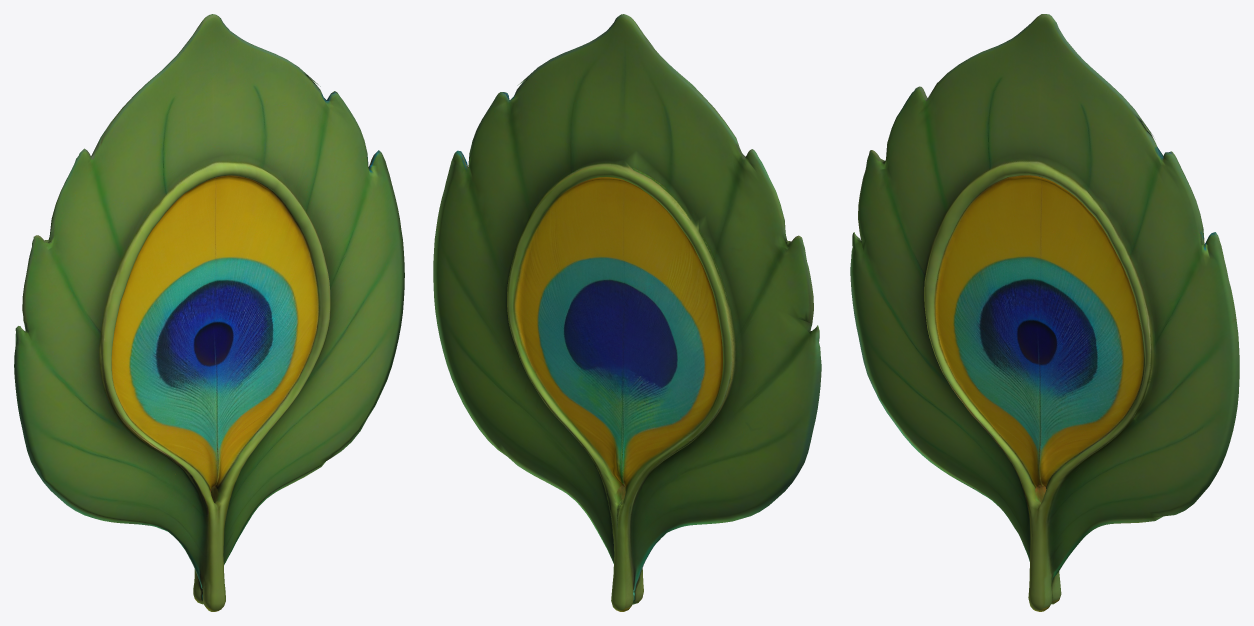
The model's file is Peacock.glb.
3 views of the same model, side by side, from view 1: azimuth 30°, elevation 25°; view 2: azimuth 150°, elevation 25°; view 3: azimuth 330°, elevation 25° (orthographic).
Bounding box in the file's own units: 1.37 × 1.99 × 0.1226.
Materials: 1 (1 with a texture image).
